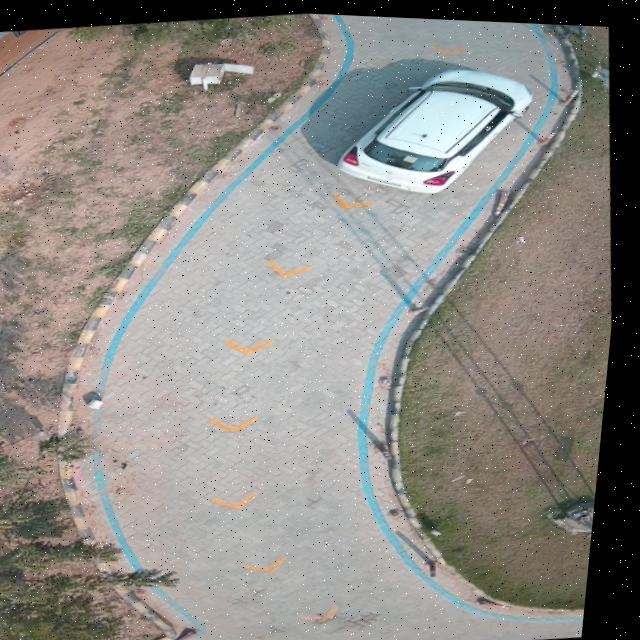car: (337, 62, 535, 189)
